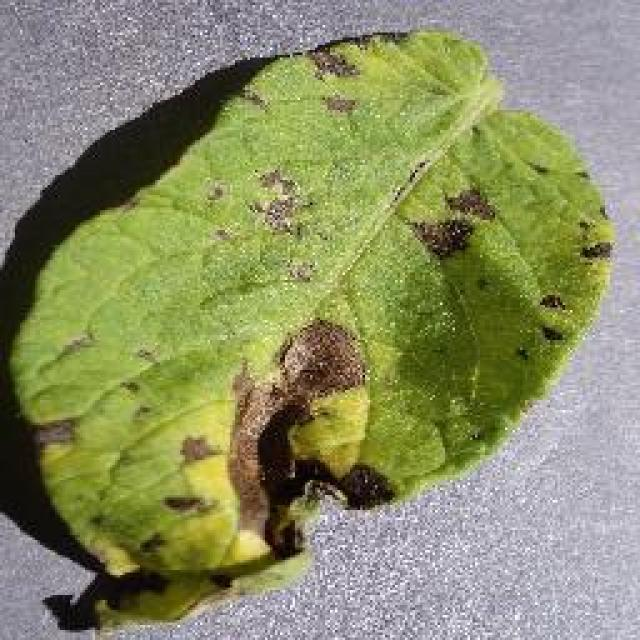Potato___Early_blight: (5, 26, 613, 638)
